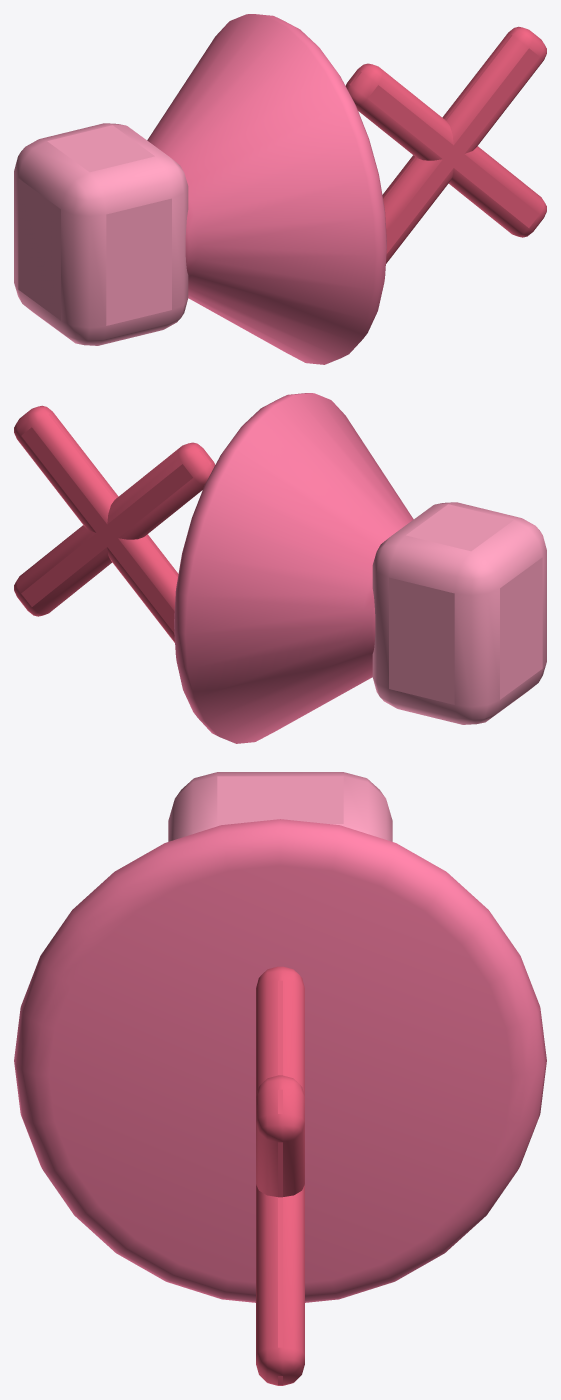
The model's file is mute.glb.
3 views of the same model, one above another, from view 1: azimuth 30°, elevation 25°; view 2: azimuth 150°, elevation 25°; view 3: azimuth 270°, elevation 25° (orthographic). The views are drawn at different scales.
Visible parts, largest first — view 1: cone, box, cef5f7e; view 2: cone, box, cef5f7e; view 3: cone, cef5f7e, box.
Boxes of the visible parts, bbox=[...] form: cone: bbox=[147, 14, 386, 364]; box: bbox=[14, 123, 188, 345]; cef5f7e: bbox=[345, 26, 546, 263]; cone: bbox=[174, 393, 413, 743]; box: bbox=[372, 502, 546, 724]; cef5f7e: bbox=[14, 405, 215, 642]; cone: bbox=[14, 819, 546, 1302]; cef5f7e: bbox=[256, 966, 304, 1385]; box: bbox=[168, 772, 392, 841].
Bounding box in the file's own units: 1.23 × 0.76 × 0.76.
